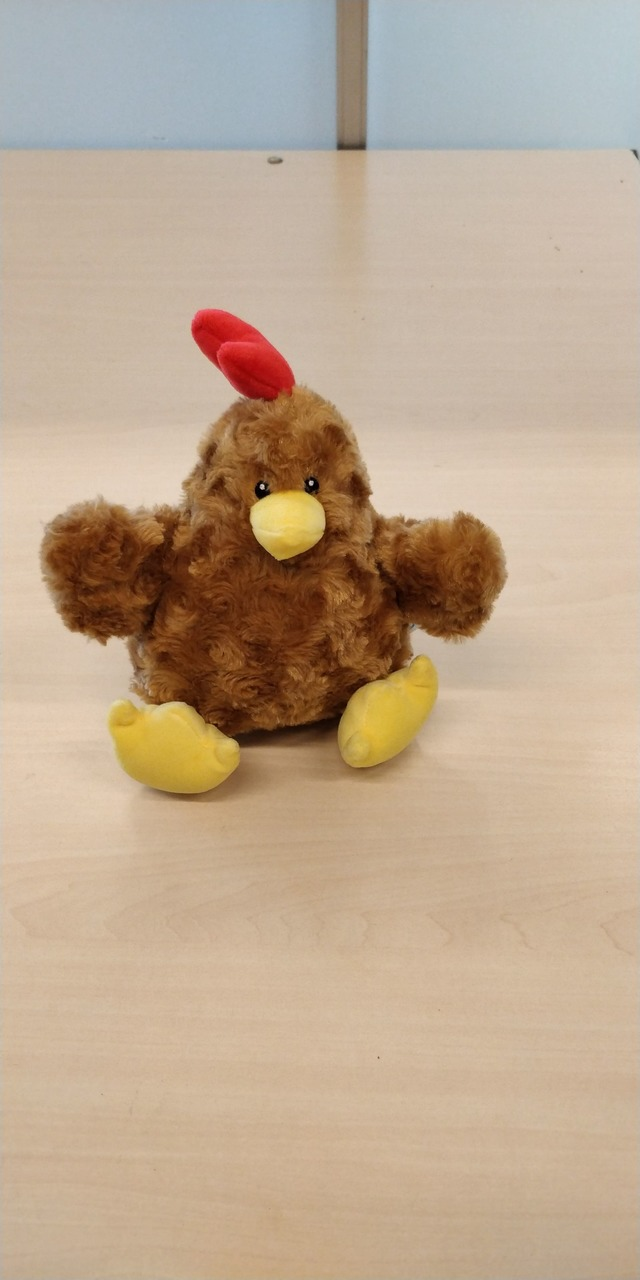fakeChicken: (39, 308, 510, 794)
